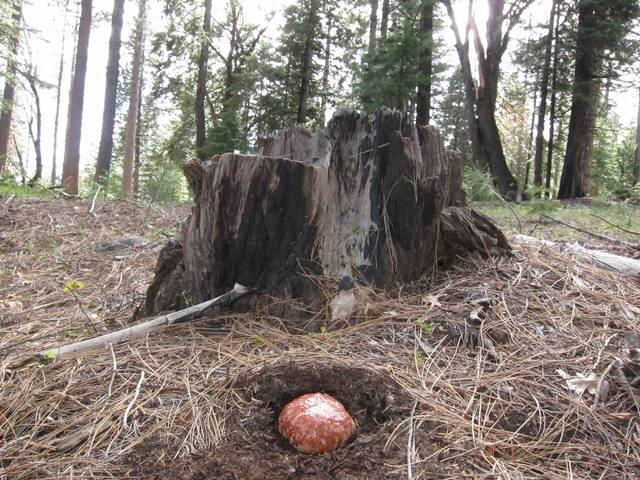edible_mushroom: (276, 391, 357, 454)
